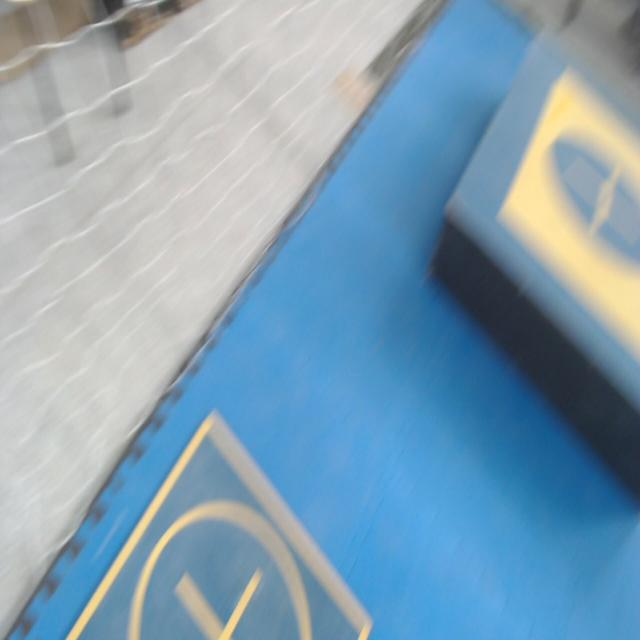base_inicio: (495, 69, 640, 366)
base_pouso: (63, 408, 374, 639)
